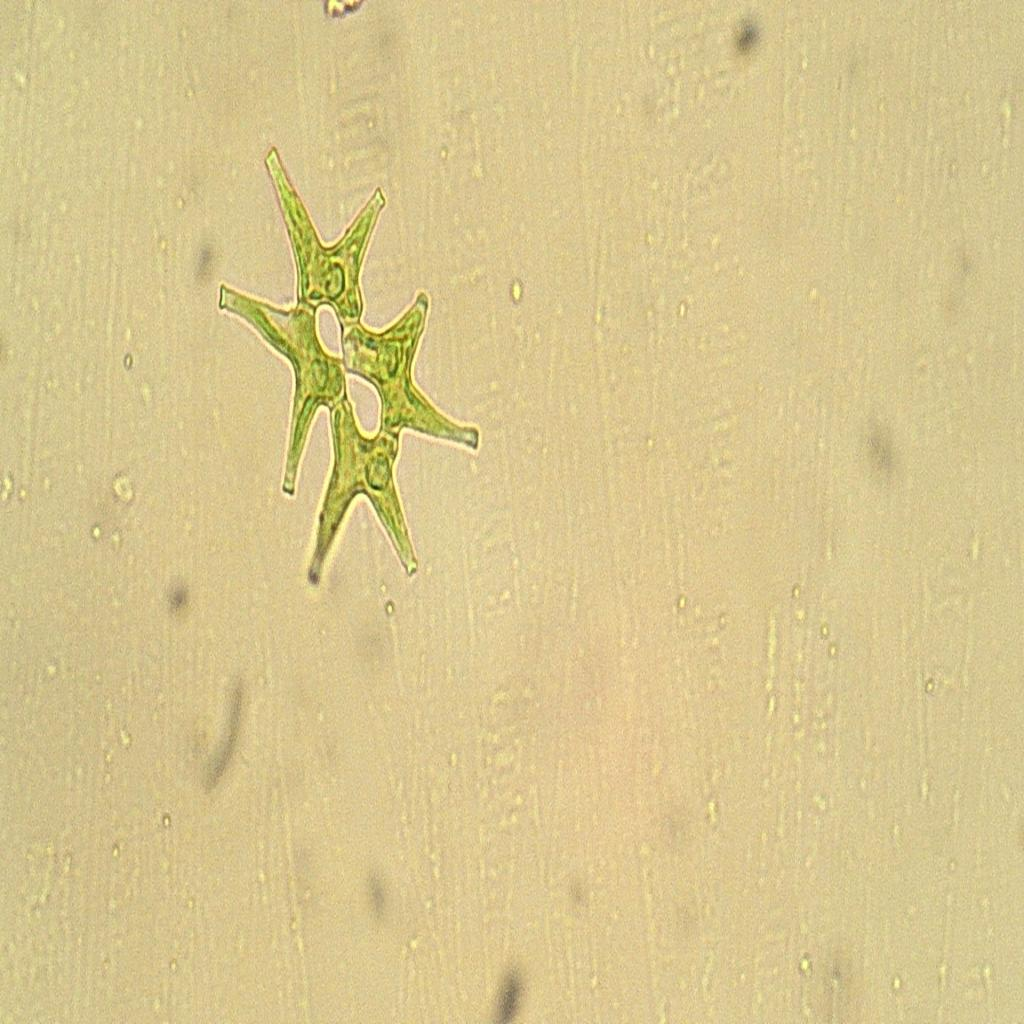Pediastrum_CF: (187, 113, 504, 619)
